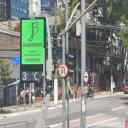NoVirarU: (58, 64, 68, 78)
